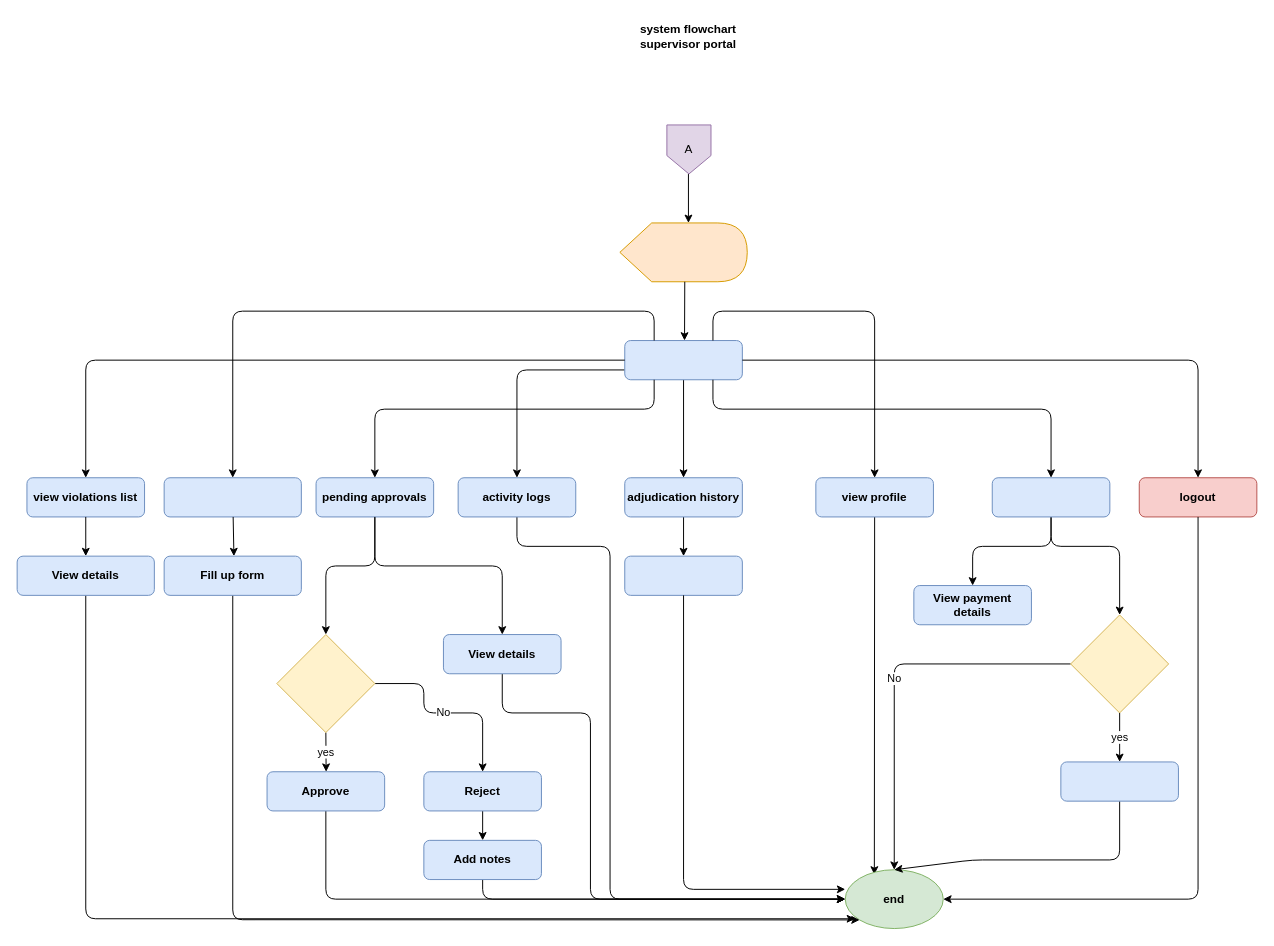
The diagram is 1274 pixels wide and 946 high, and some of its shapes have lost their labels. Here are the shapes that lost their labels. From the top down, the box of each, then its label:
(619, 222, 747, 282): Display of supervisor dashboard
(624, 340, 742, 380): Supervisor sidebar
(163, 477, 301, 517): create announcement
(991, 477, 1110, 517): payment records
(624, 555, 742, 595): Adjudication history list
(276, 634, 375, 733): Is adjudicated violation valid?
(1070, 614, 1169, 713): Payee wants copy?
(1060, 761, 1178, 801): Print temporary receipt
